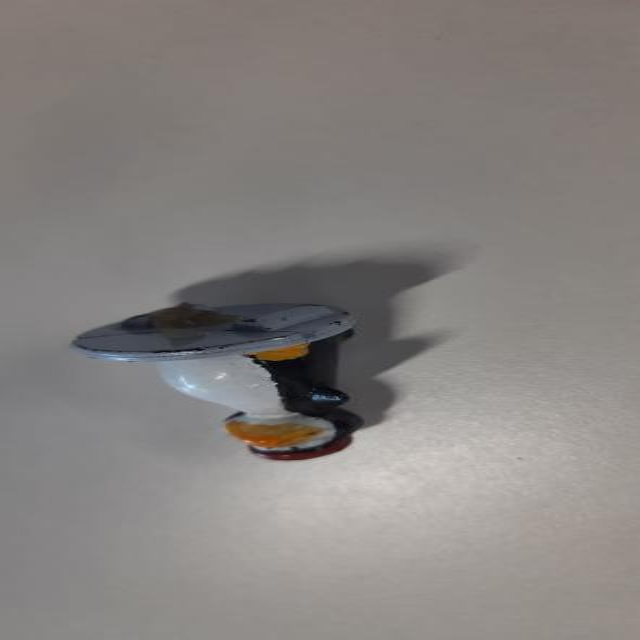Penguin: (84, 310, 411, 464)
